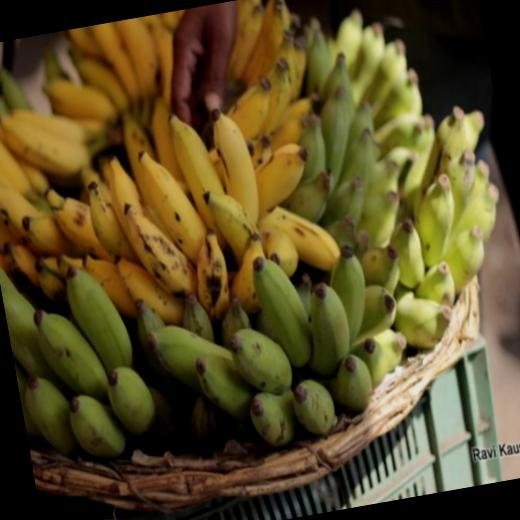Banana: (0, 0, 520, 486), (248, 246, 318, 372)
